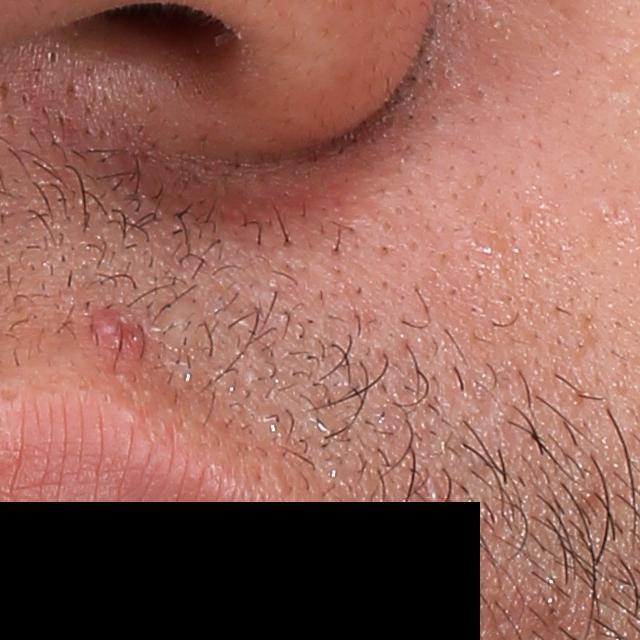papule: (74, 306, 152, 366)
